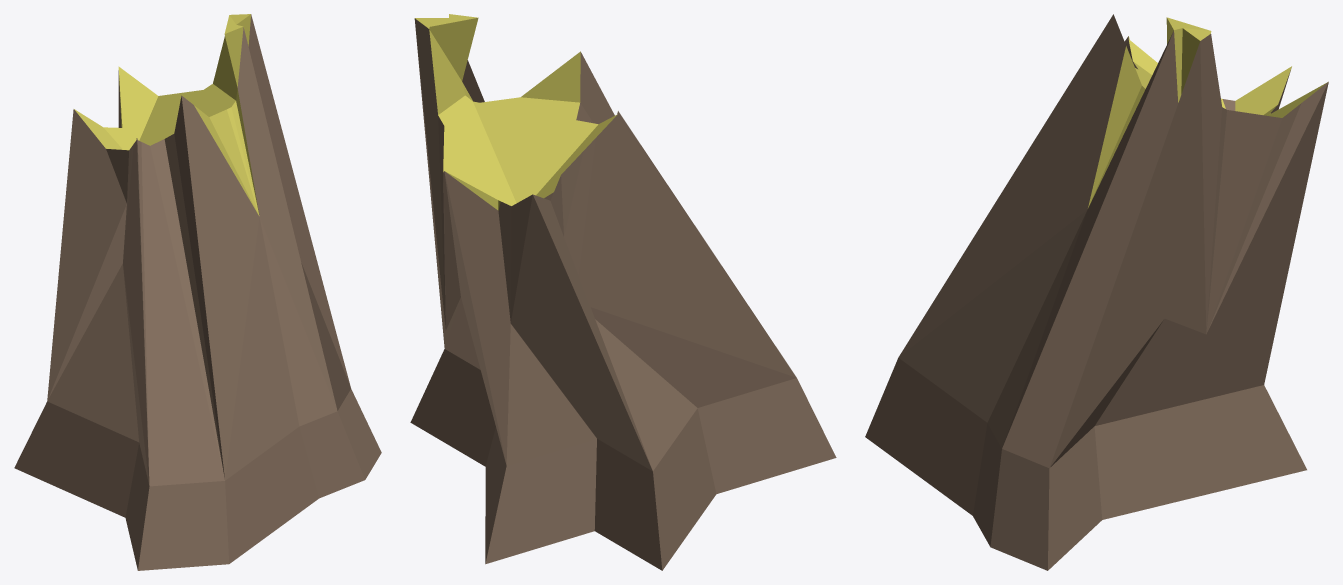
Rendered from stubbeR2.dae.
3 views of the same model, side by side, from view 1: azimuth 30°, elevation 25°; view 2: azimuth 150°, elevation 25°; view 3: azimuth 270°, elevation 25° (orthographic). The views are drawn at different scales.
Visible parts, largest first — view 1: Plane_003; view 2: Plane_003; view 3: Plane_003.
Boxes of the visible parts, <box> form: Plane_003: <box>14,14,381,570</box>; Plane_003: <box>410,14,836,570</box>; Plane_003: <box>865,14,1328,570</box>.
Bounding box in the file's own units: 0.7687 × 0.846 × 0.9872.
